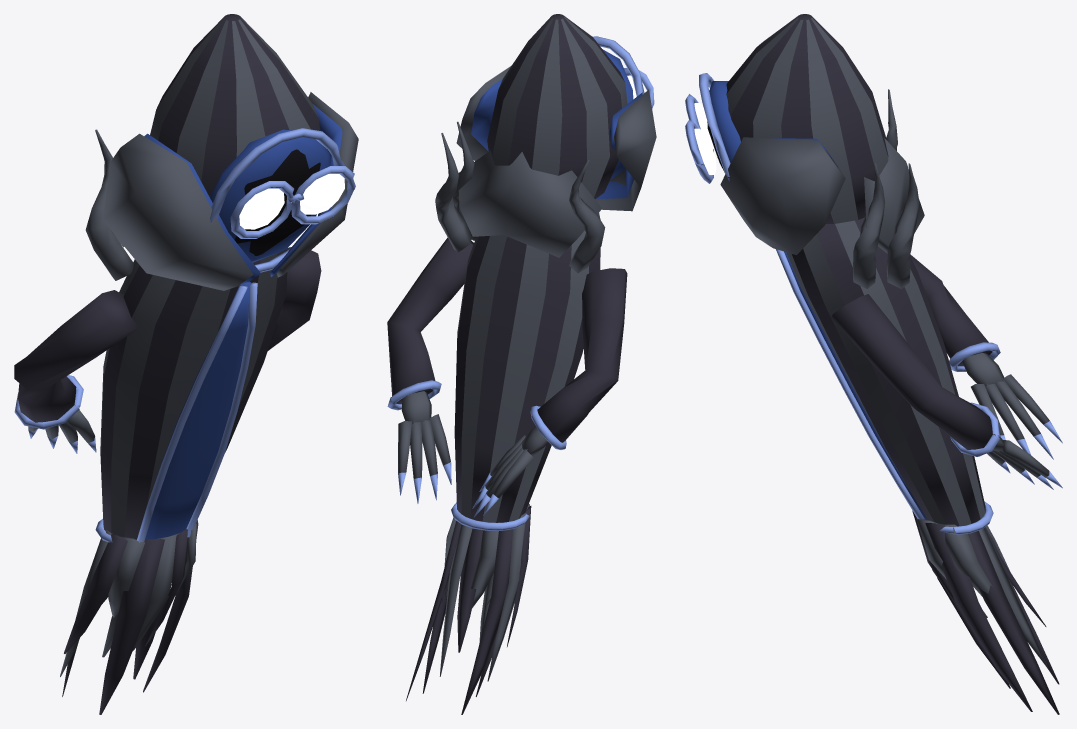
File: lurker-reader-over-the-shoulder.glb
The picture shows the model from 3 angles, left to right: view 1: azimuth 30°, elevation 25°; view 2: azimuth 150°, elevation 25°; view 3: azimuth 270°, elevation 25°; orthographic projection. The views are drawn at different scales.
Visible parts, largest first — view 1: lurker_reader_over_the_shoulder, turn_head, sway_hem_front, sway_hem_r, blink_eyes, sway_wisps, sway_hem_l, sway_hem_back; view 2: lurker_reader_over_the_shoulder, turn_head, sway_hem_back, sway_wisps, sway_hem_r, sway_hem_l, sway_hem_front; view 3: lurker_reader_over_the_shoulder, turn_head, sway_hem_back, sway_wisps, sway_hem_l, sway_hem_front, blink_eyes.
Boxes of the visible parts, left/top/right/bottom form: lurker_reader_over_the_shoulder: left=14, top=92, right=358, bottom=542; turn_head: left=150, top=14, right=355, bottom=272; sway_hem_front: left=99, top=523, right=196, bottom=714; sway_hem_r: left=60, top=530, right=127, bottom=676; blink_eyes: left=239, top=174, right=344, bottom=229; sway_wisps: left=85, top=129, right=133, bottom=280; sway_hem_l: left=143, top=520, right=198, bottom=692; sway_hem_back: left=62, top=594, right=163, bottom=696; lurker_reader_over_the_shoulder: left=387, top=65, right=656, bottom=530; turn_head: left=487, top=14, right=654, bottom=198; sway_hem_back: left=406, top=521, right=512, bottom=714; sway_wisps: left=435, top=121, right=605, bottom=273; sway_hem_r: left=487, top=506, right=531, bottom=681; sway_hem_l: left=422, top=517, right=456, bottom=693; sway_hem_front: left=444, top=504, right=529, bottom=696; lurker_reader_over_the_shoulder: left=720, top=137, right=1062, bottom=534; turn_head: left=685, top=14, right=888, bottom=223; sway_hem_back: left=968, top=525, right=1059, bottom=714; sway_wisps: left=853, top=89, right=919, bottom=288; sway_hem_l: left=925, top=523, right=1032, bottom=711; sway_hem_front: left=912, top=511, right=1010, bottom=688; blink_eyes: left=694, top=103, right=716, bottom=174.
Size of the model in its own units: 0.4327 by 1.09 by 0.552.
